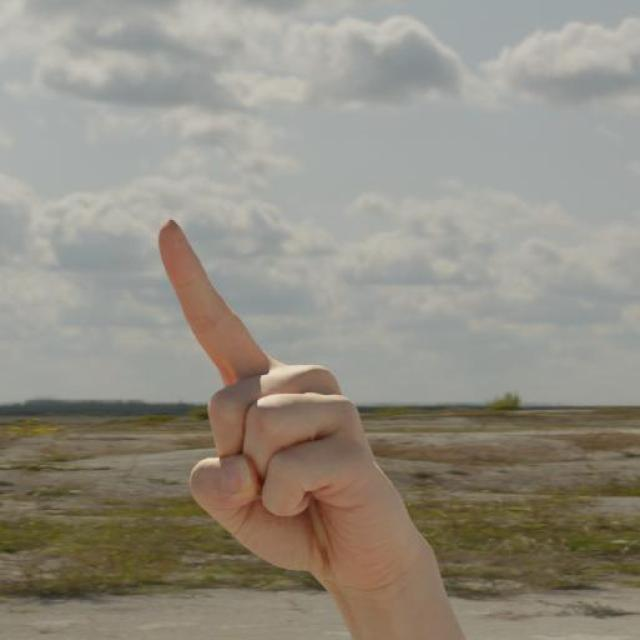Z: (148, 216, 394, 616)
